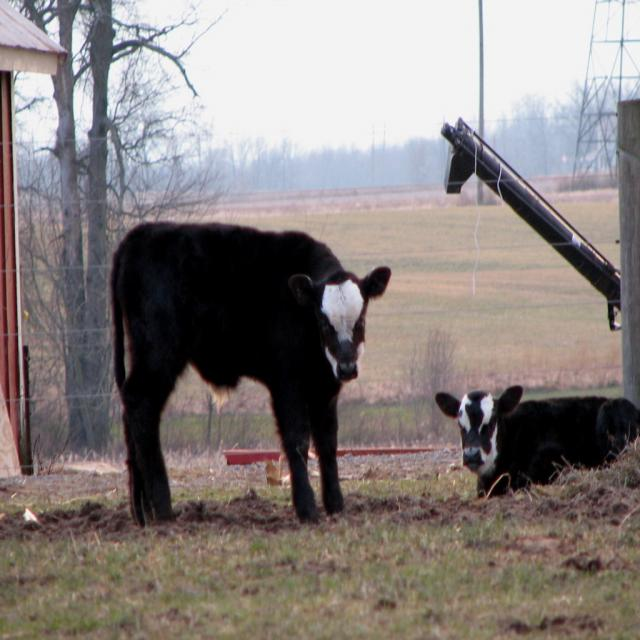Cattle: (107, 221, 392, 529), (434, 385, 640, 498)
